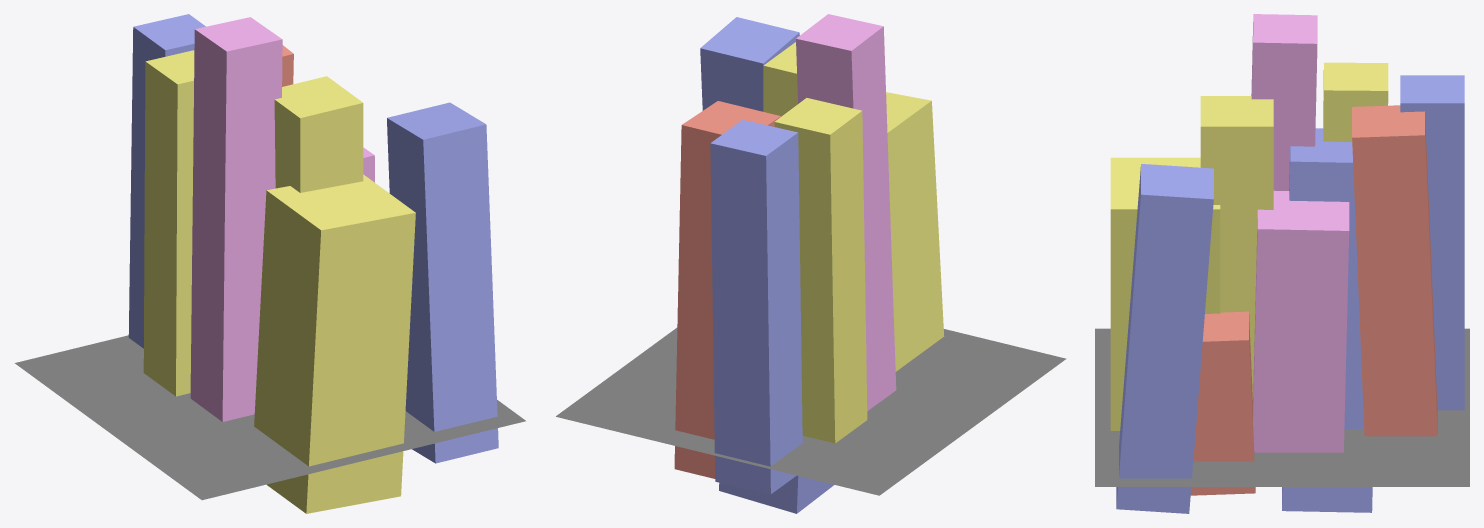
The model's file is building module 0.glb.
3 views of the same model, side by side, from view 1: azimuth 30°, elevation 25°; view 2: azimuth 150°, elevation 25°; view 3: azimuth 270°, elevation 25° (orthographic).
Visible parts, largest first — view 1: 1 bake; view 2: 1 bake; view 3: 1 bake.
Part boxes in pixels (bbox=[...]): 1 bake: bbox=[14, 14, 525, 513]; 1 bake: bbox=[556, 14, 1066, 513]; 1 bake: bbox=[1095, 14, 1469, 513].
Size of the model in its own units: 2 by 2.66 by 2.
1 material, 1 textured.
